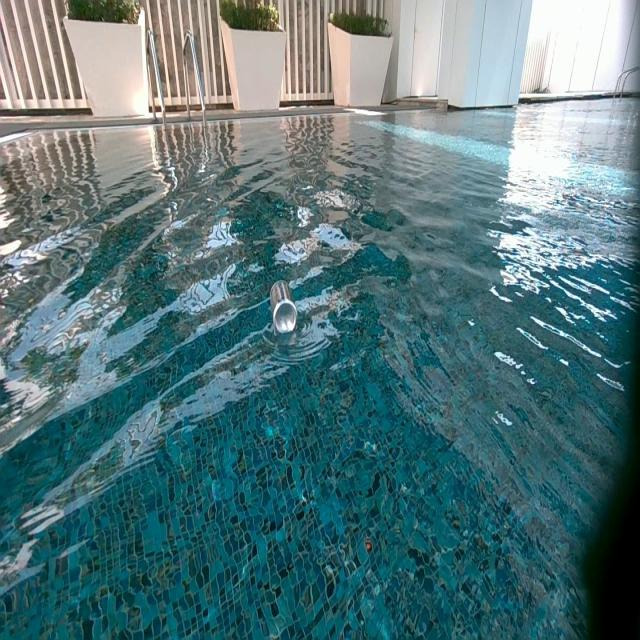Cans: (270, 280, 296, 335)
